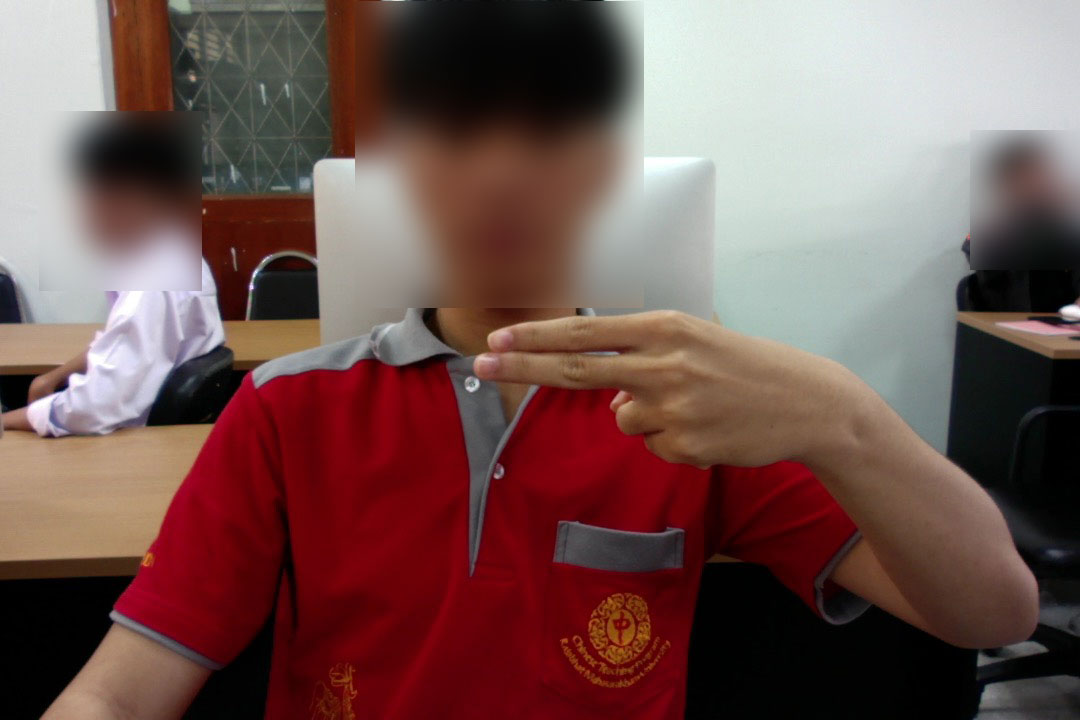hor: (451, 299, 878, 471)
